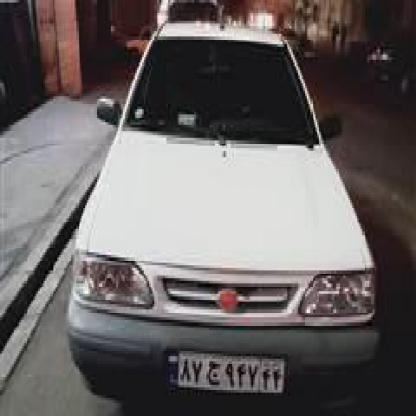car: (59, 15, 402, 414)
